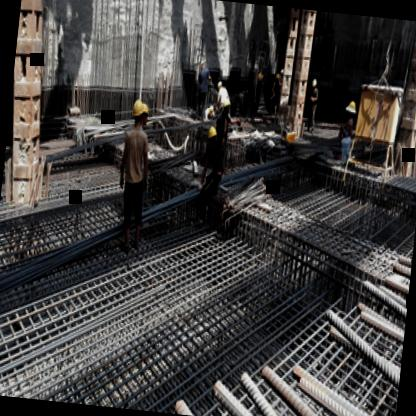helmet: (128, 94, 146, 127), (138, 99, 152, 127), (206, 121, 222, 145)
